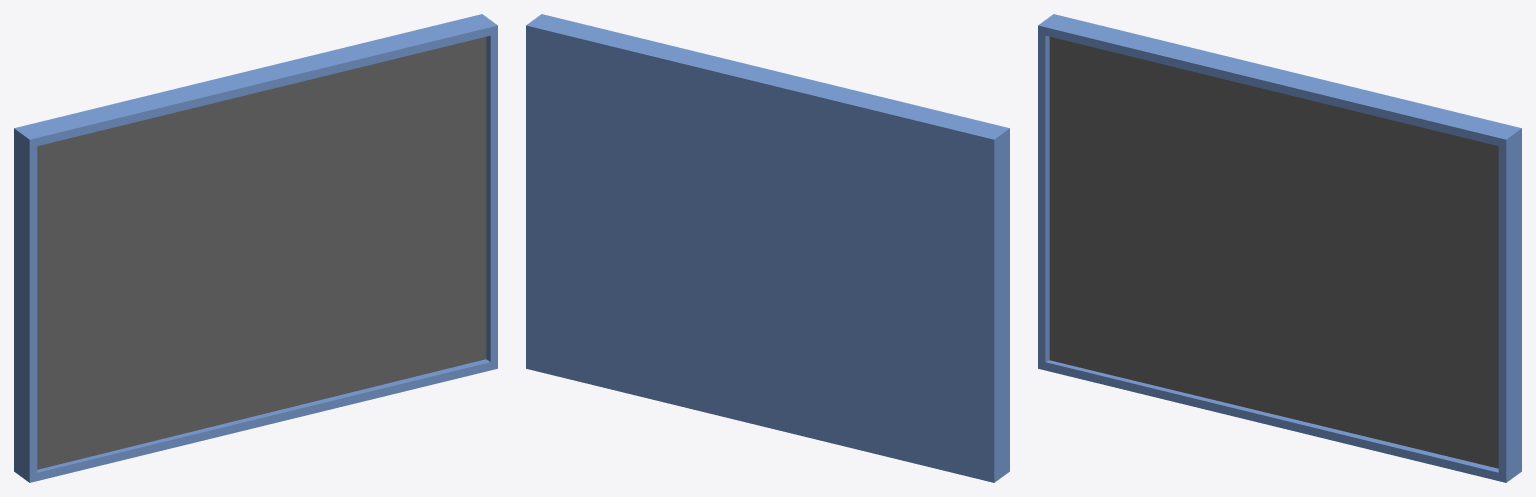
The model's file is whiteboard.fbx.
The picture shows the model from 3 angles, left to right: view 1: azimuth 30°, elevation 25°; view 2: azimuth 150°, elevation 25°; view 3: azimuth 330°, elevation 25°; orthographic projection.
Parts seen in each view (by area): view 1: Whiteboard; view 2: Whiteboard; view 3: Whiteboard.
Part boxes in pixels (<box>): Whiteboard: <box>14,14,497,482</box>; Whiteboard: <box>526,14,1009,482</box>; Whiteboard: <box>1038,14,1521,482</box>.
Bounding box in the file's own units: 1.99 × 1.39 × 0.1154.
